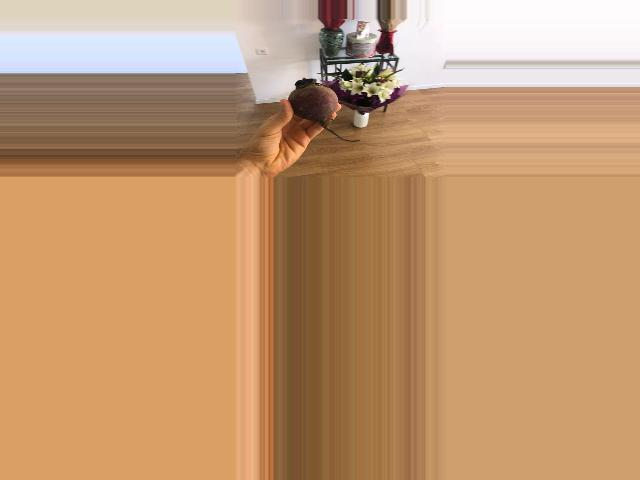beet: (288, 78, 361, 141)
